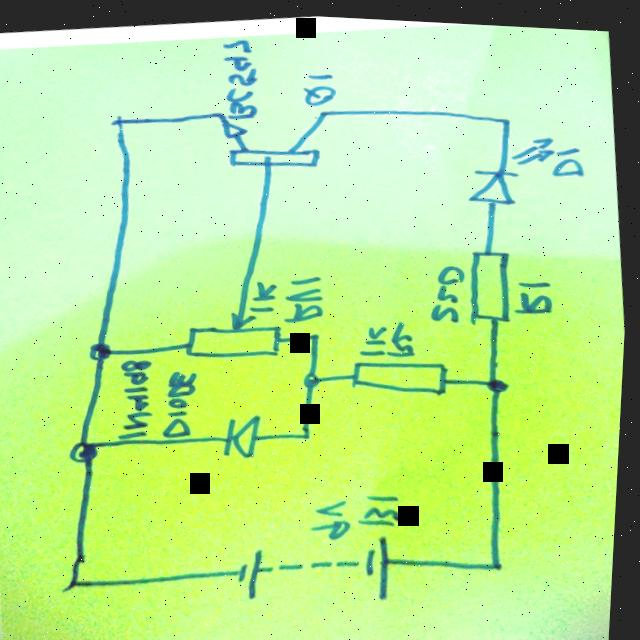diode: (464, 126, 564, 205), (221, 408, 273, 459)
junction: (71, 436, 106, 463), (90, 339, 120, 362), (488, 368, 516, 389), (492, 105, 521, 125), (301, 367, 328, 386), (68, 573, 94, 591), (306, 323, 332, 341), (490, 550, 515, 568), (296, 423, 321, 441), (108, 111, 131, 129), (209, 100, 231, 118), (316, 100, 338, 117)
resistor: (184, 302, 292, 362), (351, 346, 457, 401), (465, 240, 521, 321)
source: (365, 527, 403, 598), (237, 543, 274, 598)
text: (113, 353, 165, 440), (218, 32, 268, 118), (160, 364, 211, 438), (428, 257, 473, 320), (283, 269, 331, 321), (312, 493, 361, 539), (358, 486, 411, 525), (516, 271, 560, 311), (300, 66, 340, 105), (385, 313, 423, 354), (358, 318, 397, 355), (550, 138, 589, 173), (249, 274, 283, 311)
transistor: (218, 108, 327, 172)
